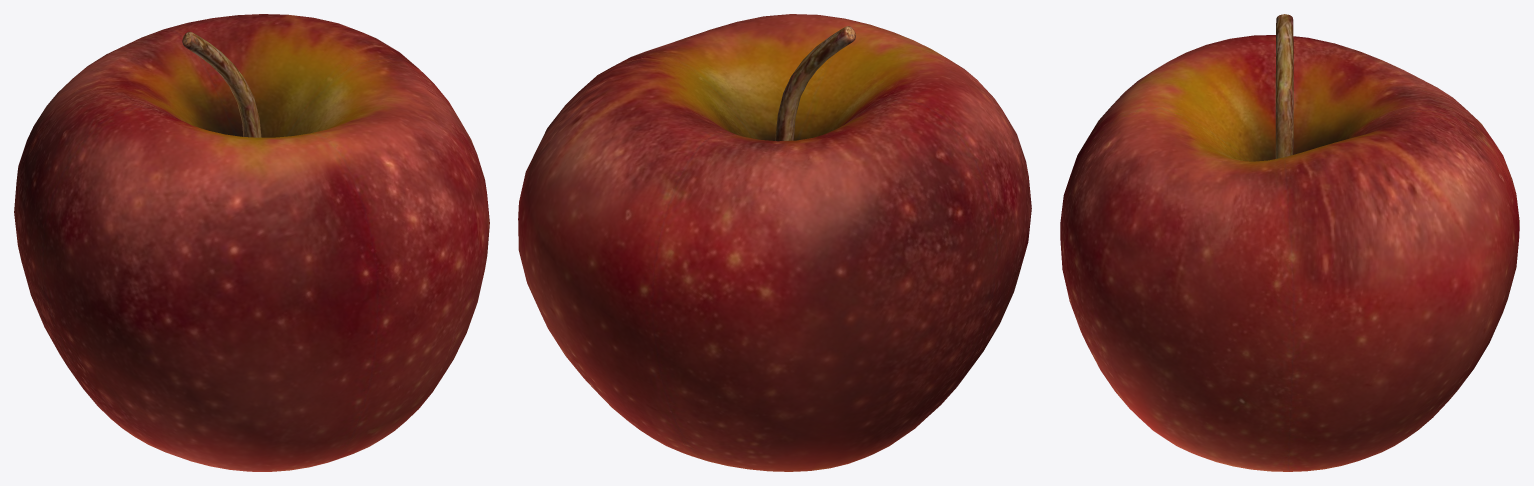
Rendered from Apple.glb.
3 renders of one model, left to right at view 1: azimuth 30°, elevation 25°; view 2: azimuth 150°, elevation 25°; view 3: azimuth 270°, elevation 25°, orthographic. The views are drawn at different scales.
Visible parts, largest first — view 1: Apple; view 2: Apple; view 3: Apple.
Part boxes in pixels (x1,y1,x2,y2): Apple: (14, 14, 489, 471); Apple: (518, 14, 1031, 471); Apple: (1060, 14, 1519, 471).
Bounding box in the file's own units: 0.0753 × 0.0695 × 0.0761.
Materials: 1 (1 with a texture image).
